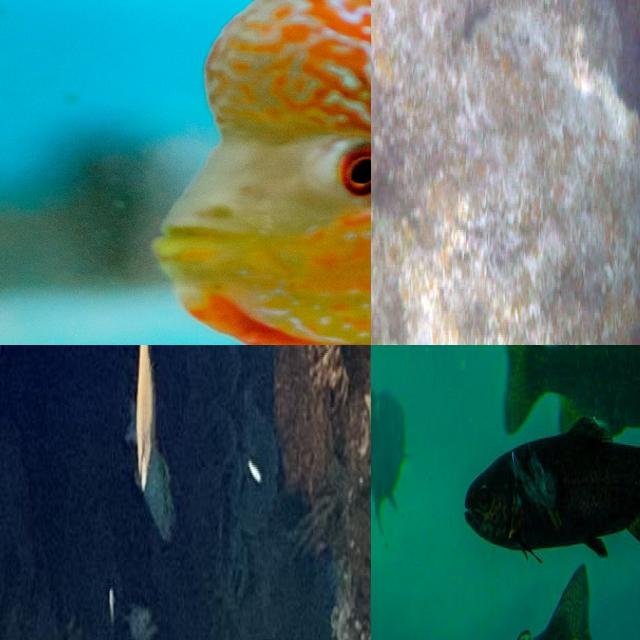fish: (0, 0, 371, 345), (411, 345, 640, 640)
